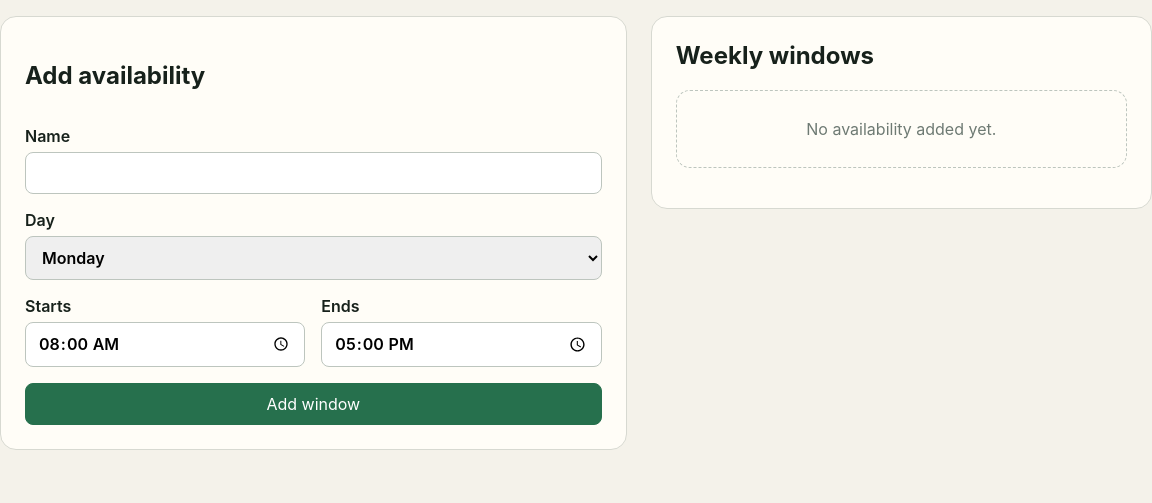
Scenario: explains when an availability window is reversed
This screenshot has width=1152, height=503.
Expected: the text "No availability added yet." is shown, [676,90,1127,168]
Type "Evening study" into the field labelled "Name" at [313, 173], box [25,152,602,194]
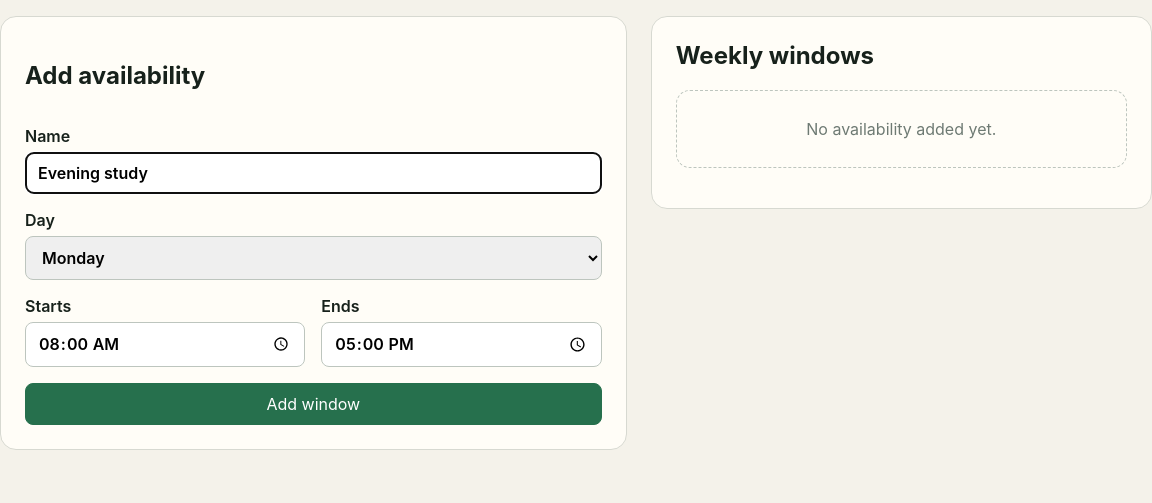
Replace the text in the time field labelled "Starts" with "20:00" at [165, 344], box [25,322,305,367]
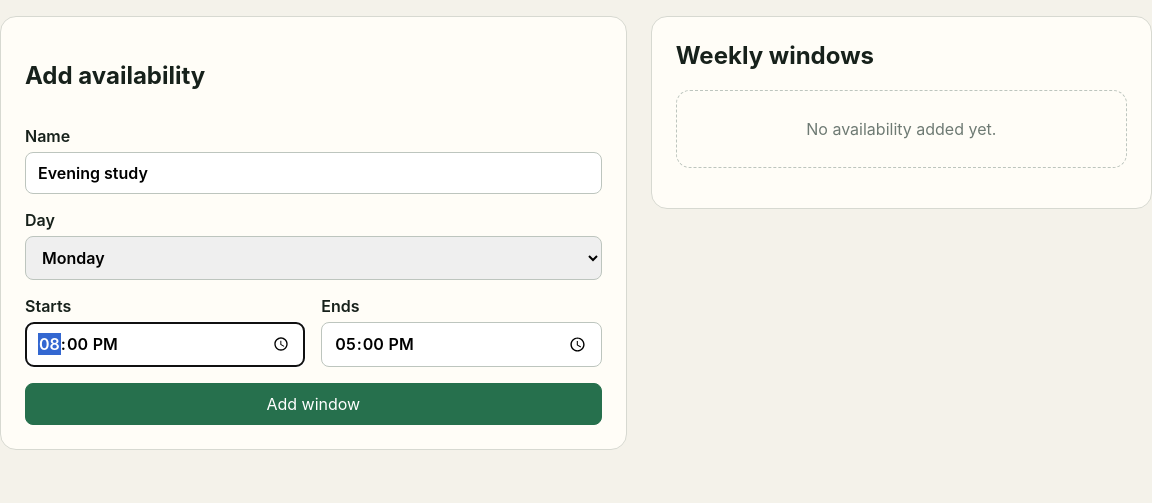
Replace the text in the time field labelled "Ends" with "18:00" at [461, 344], box [321,322,602,367]
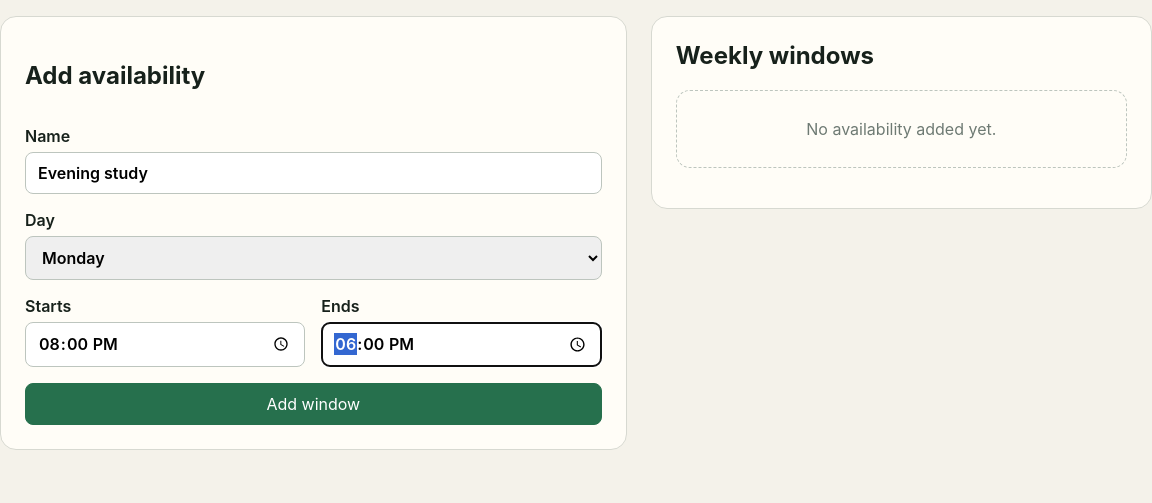
Click the button "Add window" at [313, 404], box [25,383,602,425]
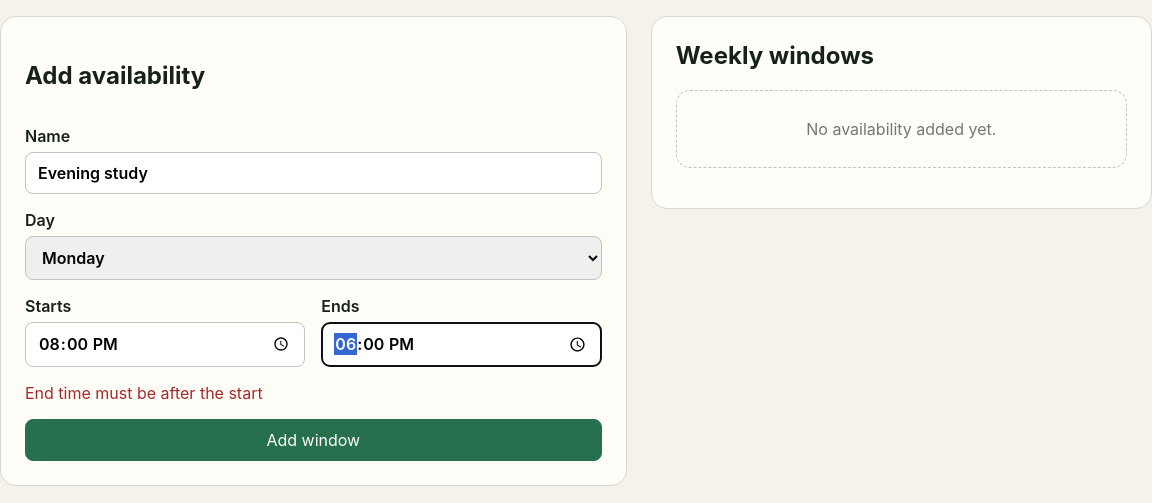
Expected: the text "End time must be after the start" is shown, [25,383,263,403]
